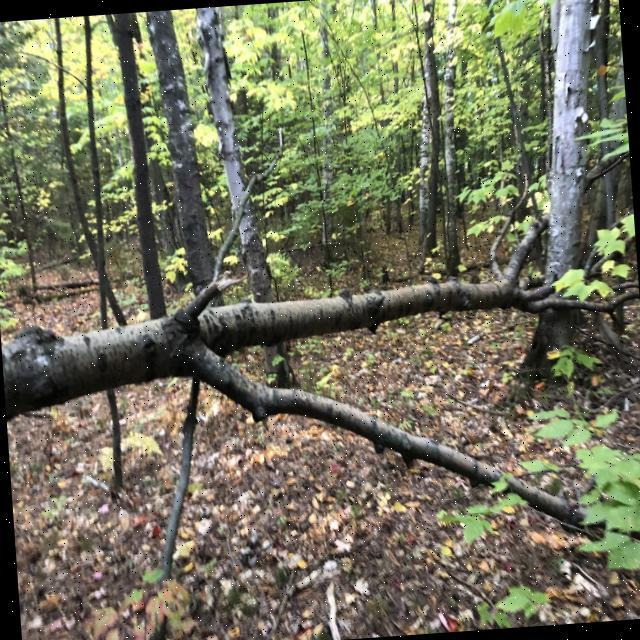fallen_object: (0, 248, 606, 428)
